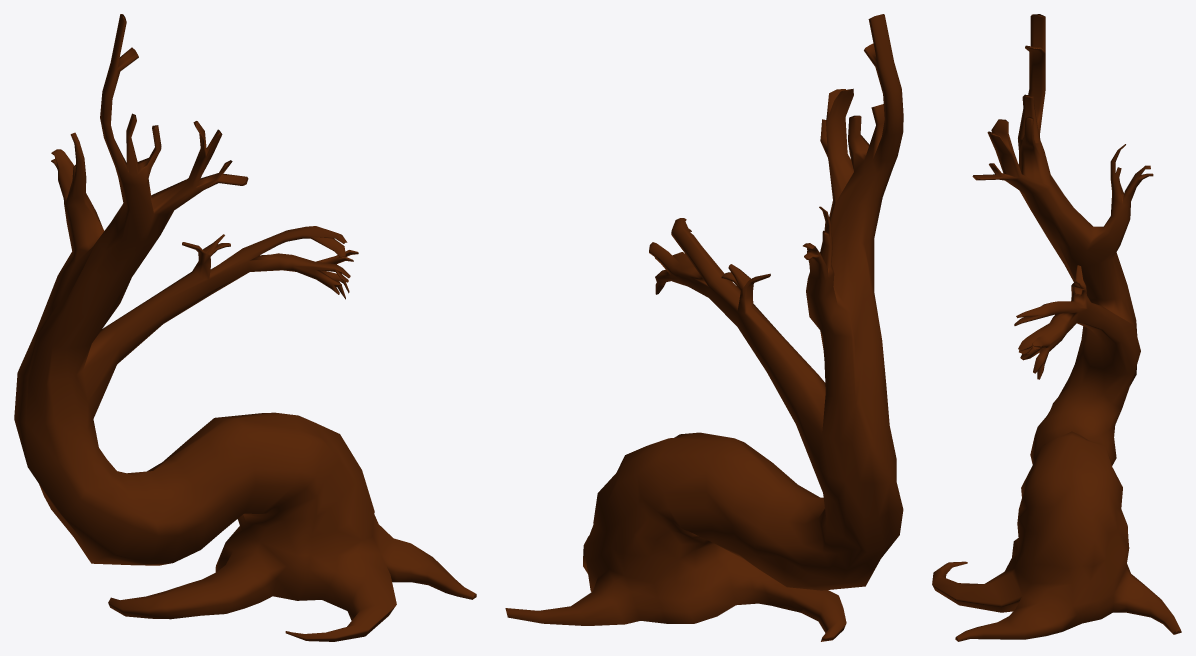
File: dead_tree.glb
The picture shows the model from 3 angles, left to right: view 1: azimuth 30°, elevation 25°; view 2: azimuth 150°, elevation 25°; view 3: azimuth 270°, elevation 25°; orthographic projection. The views are drawn at different scales.
Parts seen in each view (by area): view 1: refined_tree_1; view 2: refined_tree_1; view 3: refined_tree_1.
Part boxes in pixels (x1=…): refined_tree_1: x1=14, y1=14, x2=476, y2=641; refined_tree_1: x1=505, y1=14, x2=903, y2=641; refined_tree_1: x1=932, y1=14, x2=1181, y2=641.
Bounding box in the file's own units: 0.2441 × 0.3952 × 0.1769.
